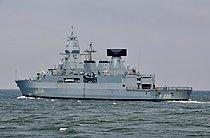MIL_Ship: (15, 29, 192, 101)
